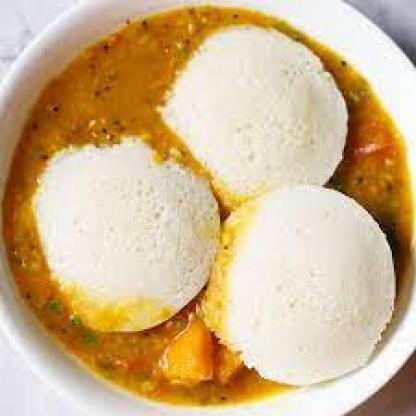idli: (19, 135, 219, 332), (199, 185, 394, 385), (157, 25, 347, 210)
